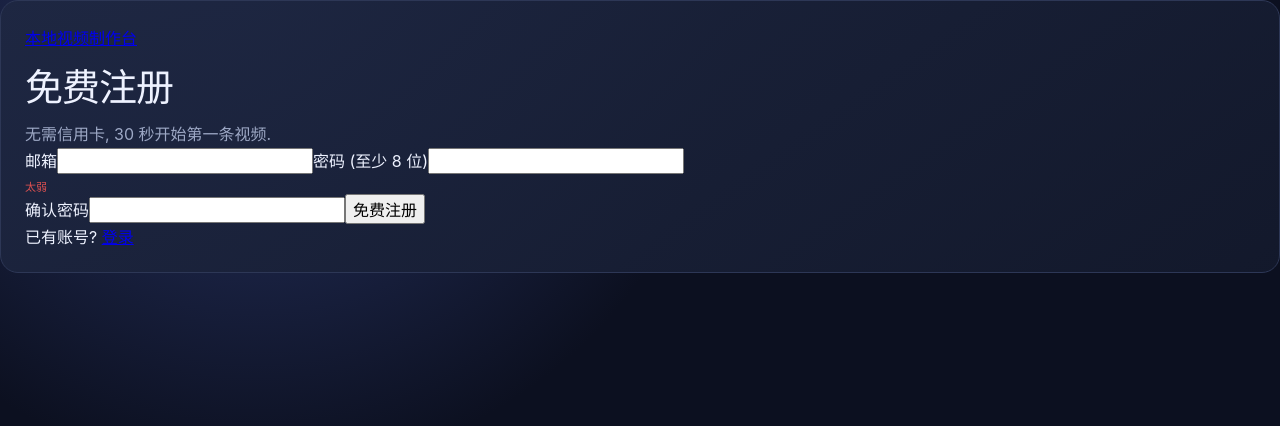
Test: SignupPage R9 (rev38) › password != confirm -> 两次密码不一致
Type "u@e.c" into the field labelled "邮箱" at (185, 161), box x1=57 y1=148 x2=313 y2=174
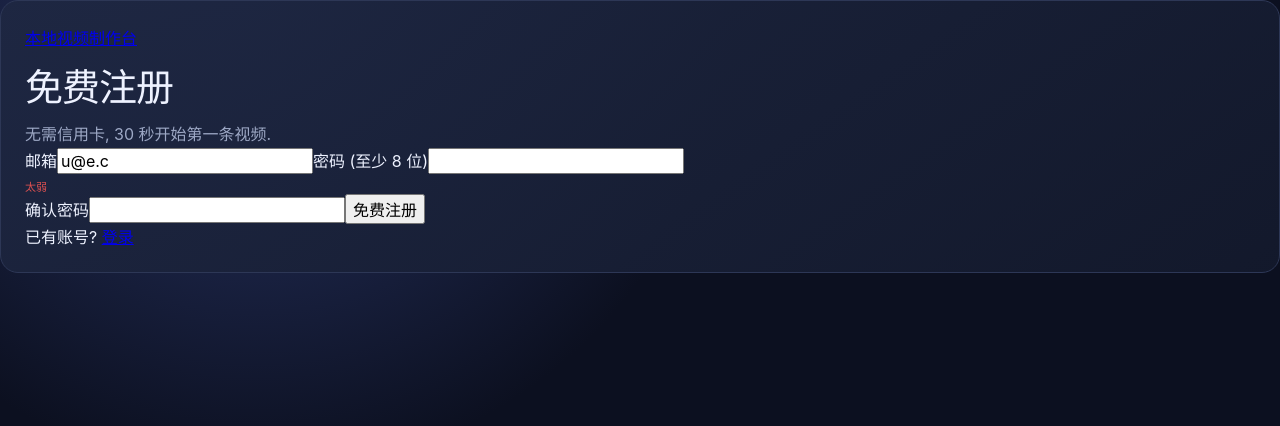
Type "Abcd1234!" into the password field labelled "密码 (至少 8 位)" at (556, 161), box x1=428 y1=148 x2=684 y2=174
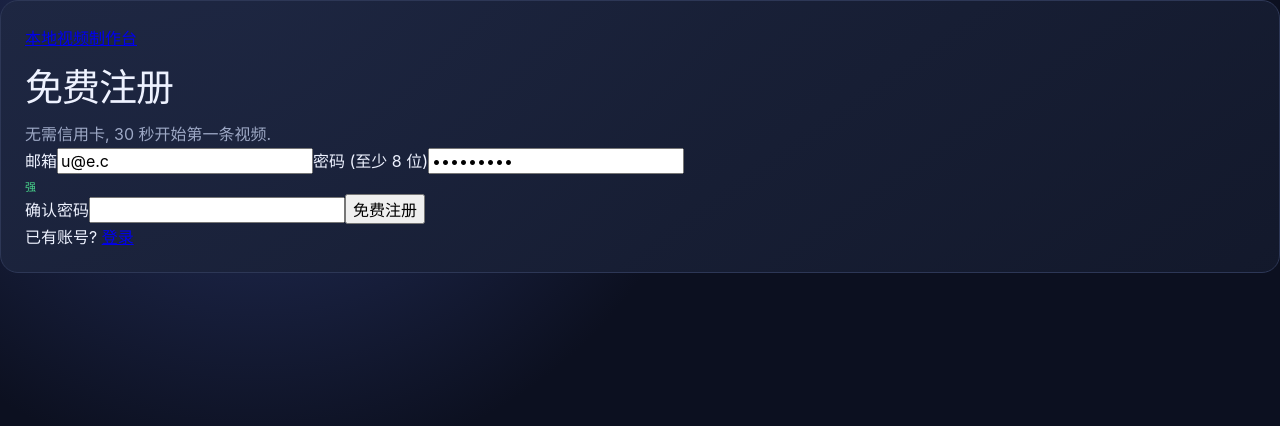
Type "DIFFERENT" into the password field labelled "确认密码" at (217, 210), box x1=89 y1=197 x2=345 y2=223
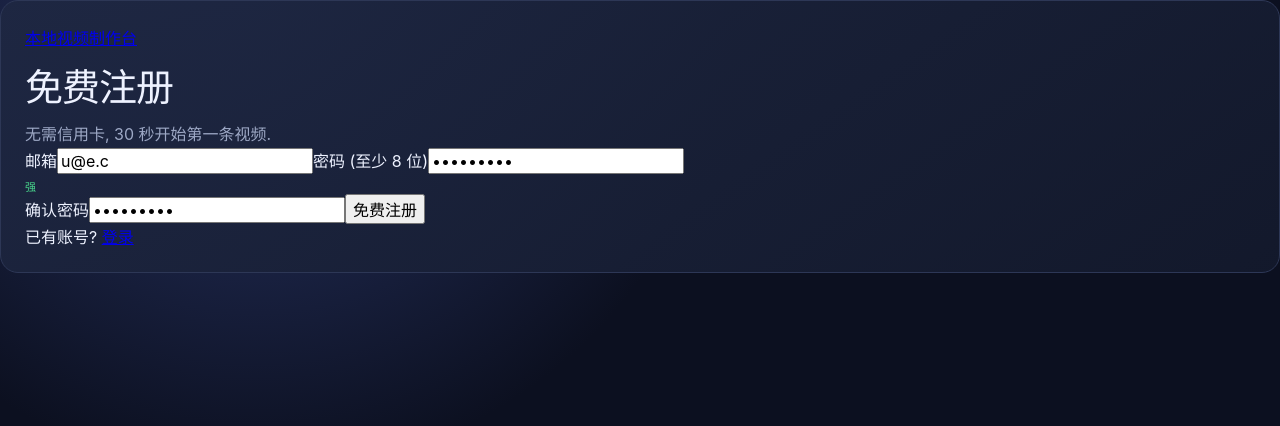
Submit the form, box x1=25 y1=148 x2=684 y2=224
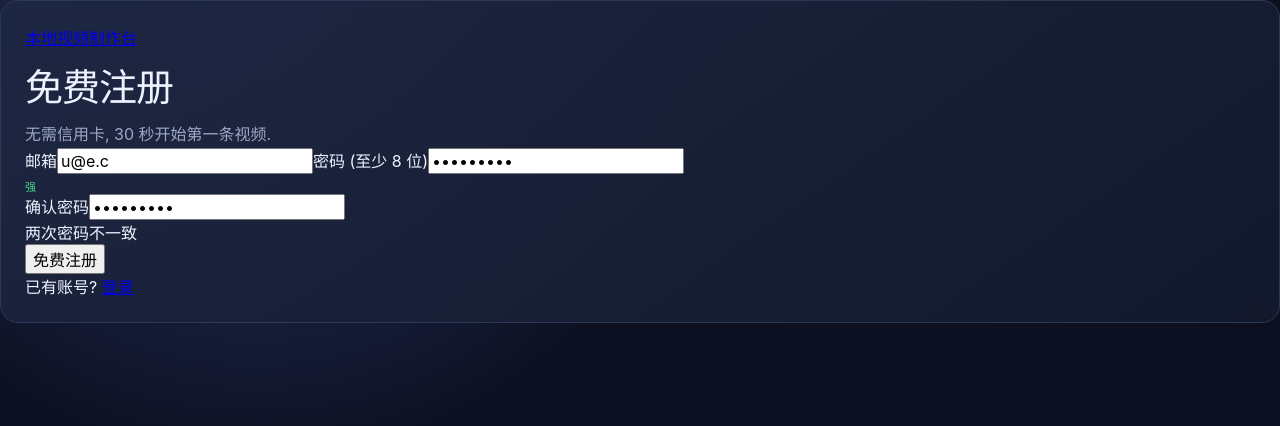
Check: the text with class "err" reads "两次密码不一致", box x1=25 y1=223 x2=137 y2=243
